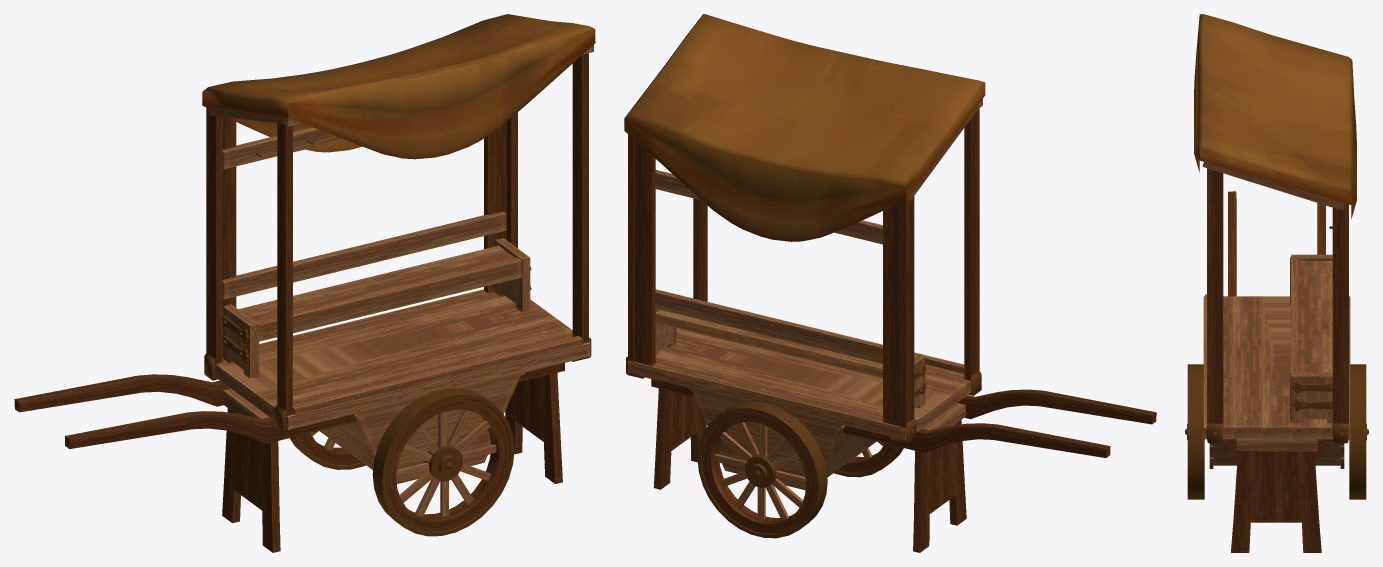
Rendered from Stall_Cart_Empty.glb.
3 renders of one model, left to right at view 1: azimuth 30°, elevation 25°; view 2: azimuth 150°, elevation 25°; view 3: azimuth 270°, elevation 25°, orthographic. The views are drawn at different scales.
Parts seen in each view (by area): view 1: Stall_Cart_Empty; view 2: Stall_Cart_Empty; view 3: Stall_Cart_Empty.
Part boxes in pixels (left/top/right/bottom): Stall_Cart_Empty: left=14, top=14, right=595, bottom=552; Stall_Cart_Empty: left=624, top=14, right=1156, bottom=552; Stall_Cart_Empty: left=1185, top=14, right=1368, bottom=552.
Bounding box in the file's own units: 3.02 × 2.63 × 1.06.
Materials: 3 (3 with a texture image).
